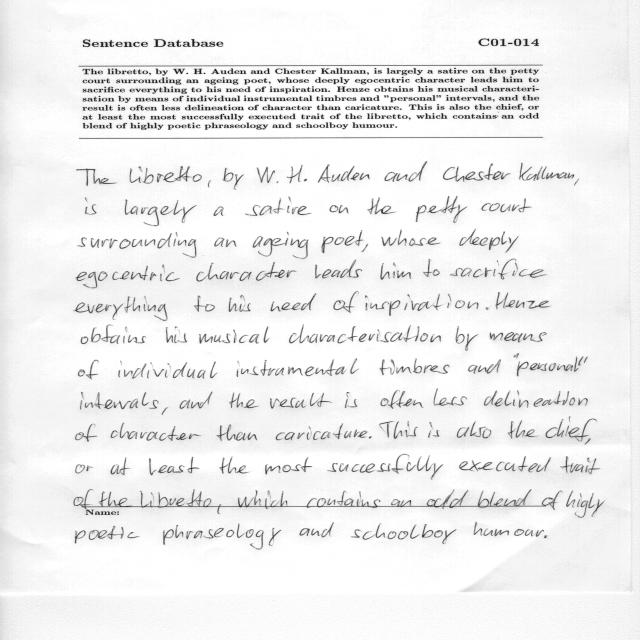word: (74, 489, 560, 507), (74, 489, 560, 507), (74, 489, 560, 507), (74, 489, 560, 507), (74, 489, 560, 507), (74, 489, 560, 507), (78, 232, 196, 258), (327, 455, 443, 480), (103, 490, 284, 506), (289, 325, 441, 344), (76, 265, 180, 289), (365, 294, 478, 316), (236, 358, 359, 377), (75, 296, 167, 321), (125, 199, 197, 226), (450, 259, 547, 279), (197, 262, 297, 281), (484, 390, 588, 408), (118, 361, 218, 379), (110, 423, 201, 441), (276, 424, 367, 441), (253, 232, 309, 259), (459, 457, 551, 473), (459, 229, 519, 253), (416, 196, 467, 223), (81, 392, 159, 409), (517, 357, 583, 377), (129, 166, 202, 184), (443, 163, 511, 182), (546, 417, 597, 442), (245, 197, 312, 216), (81, 325, 146, 344), (199, 327, 270, 344), (380, 358, 450, 375), (322, 230, 369, 253), (270, 393, 332, 409), (519, 163, 574, 181), (495, 292, 550, 310), (318, 165, 370, 183), (385, 161, 428, 182), (149, 457, 199, 475), (315, 260, 362, 279), (381, 390, 424, 409), (271, 294, 316, 312), (265, 458, 312, 475), (398, 229, 441, 246), (77, 168, 117, 186), (560, 457, 600, 475), (481, 198, 532, 212), (379, 421, 418, 439), (217, 424, 257, 441), (457, 422, 492, 439), (180, 391, 213, 409), (433, 389, 467, 406), (490, 332, 547, 342), (508, 420, 537, 439), (334, 291, 359, 313), (456, 326, 478, 351), (381, 263, 412, 280), (468, 359, 501, 374), (367, 198, 396, 215), (220, 457, 249, 474), (229, 393, 259, 409), (223, 168, 244, 190), (79, 360, 99, 379), (76, 424, 97, 442), (229, 295, 251, 312), (287, 165, 307, 183), (110, 458, 130, 476), (194, 295, 215, 312), (257, 167, 279, 183), (166, 327, 187, 343), (423, 259, 440, 277), (567, 491, 582, 507), (589, 493, 605, 507), (85, 198, 97, 215), (215, 238, 237, 247), (345, 392, 357, 408), (428, 422, 439, 438), (76, 465, 93, 474), (330, 205, 349, 213), (381, 237, 397, 246), (214, 206, 224, 216), (162, 407, 168, 415), (581, 501, 589, 507), (585, 438, 591, 444), (574, 179, 579, 186), (513, 354, 519, 359), (584, 357, 588, 363), (208, 181, 211, 188), (486, 307, 489, 310), (369, 436, 372, 439), (559, 491, 563, 493)
